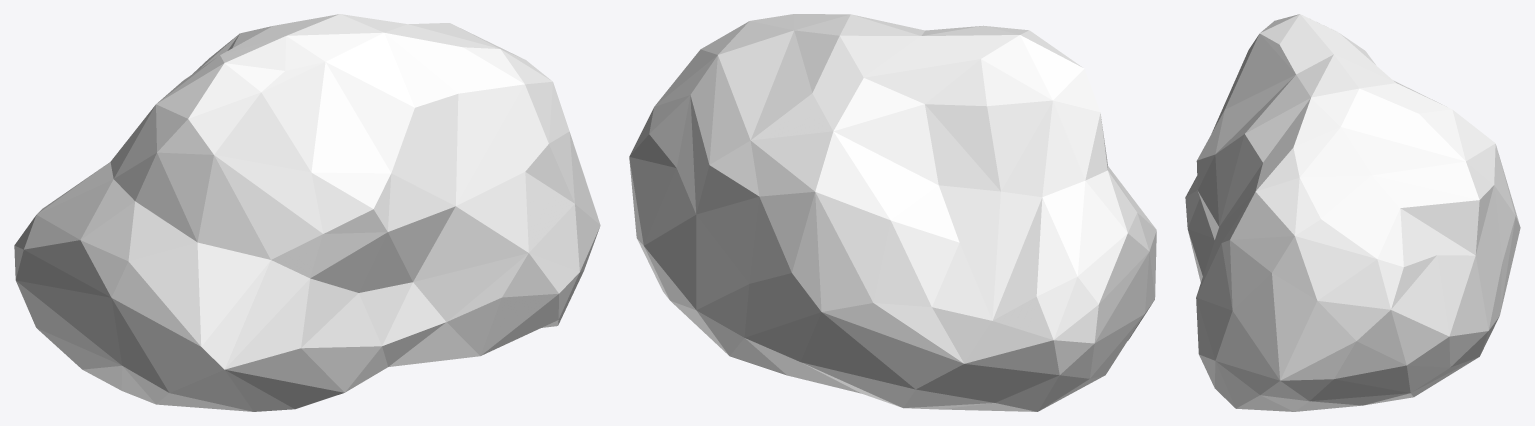
The model's file is Cloud_04.fbx.
3 views of the same model, side by side, from view 1: azimuth 30°, elevation 25°; view 2: azimuth 150°, elevation 25°; view 3: azimuth 270°, elevation 25° (orthographic). The views are drawn at different scales.
Parts seen in each view (by area): view 1: Cloud_04; view 2: Cloud_04; view 3: Cloud_04.
Boxes of the visible parts, x1,y1,x2,y2 form: Cloud_04: (14,14,600,411); Cloud_04: (629,14,1156,411); Cloud_04: (1185,14,1520,411).
Bounding box in the file's own units: 3.38 × 2.11 × 2.22.
